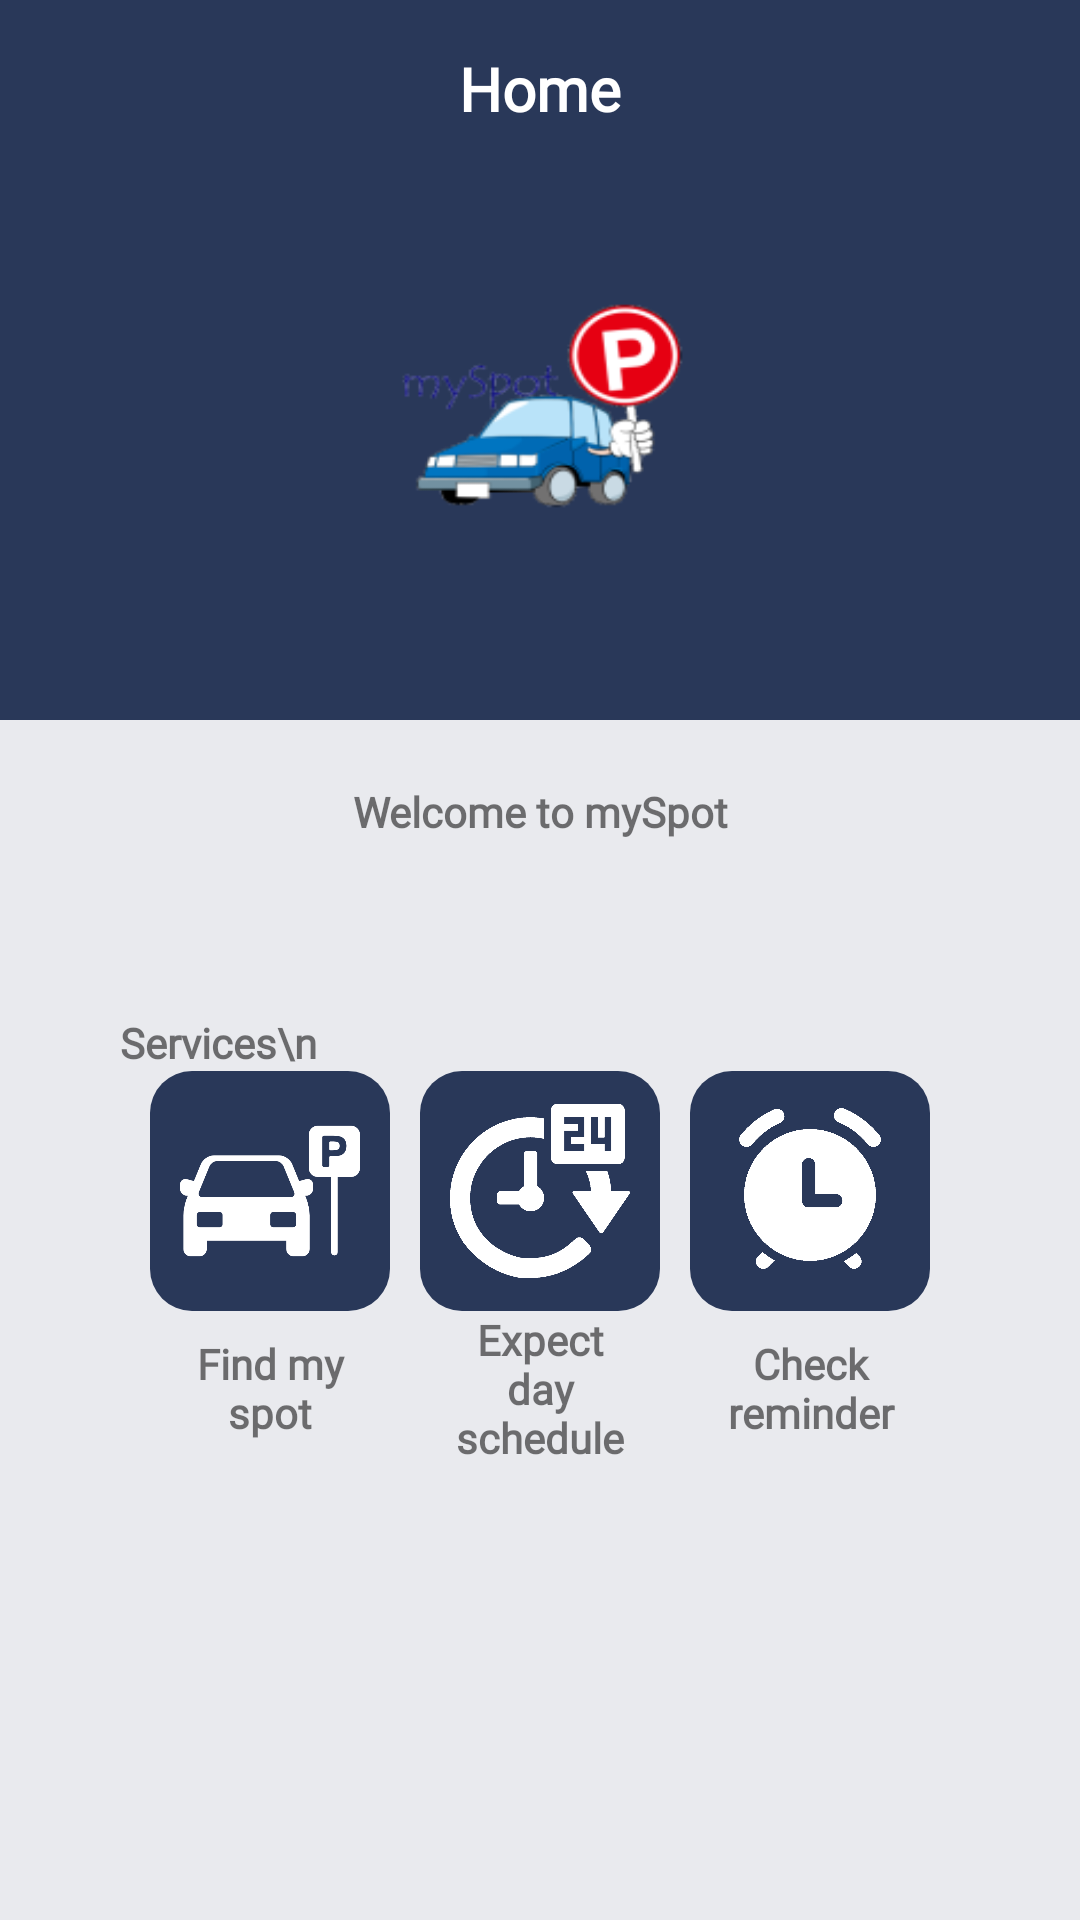

Locate icon controls on the screen. Image size 1080px x 1920px, boxes as bbox(x1, y1, x2, y2).
parking: bbox(150, 1071, 390, 1311)
